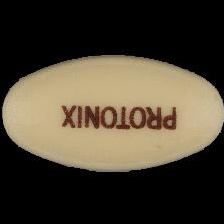67046-535: (0, 0, 224, 224)
